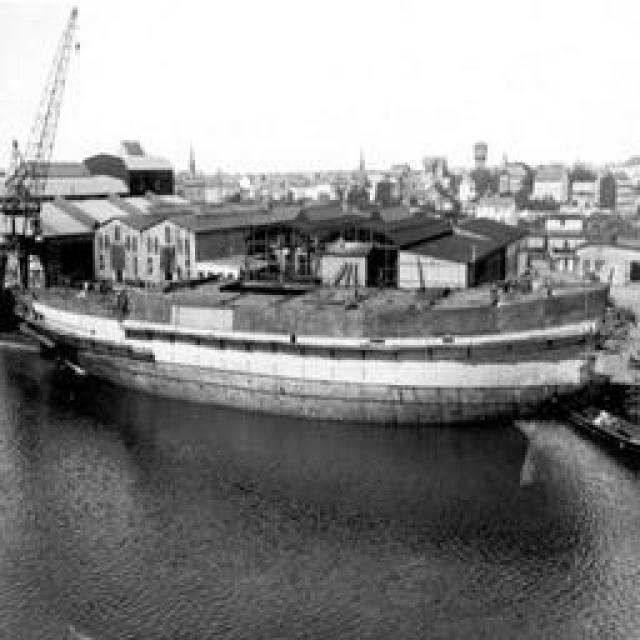Ship: (10, 272, 633, 432)
